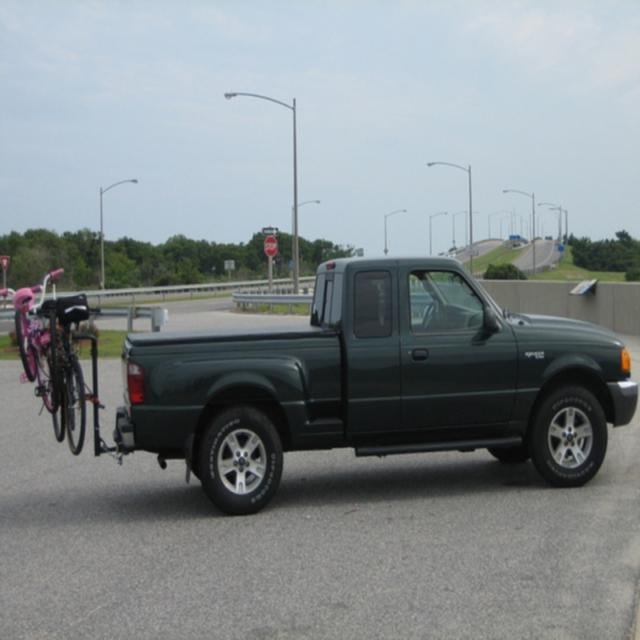bicycle: (0, 266, 62, 414), (42, 321, 84, 455)
truck: (110, 258, 639, 522)
